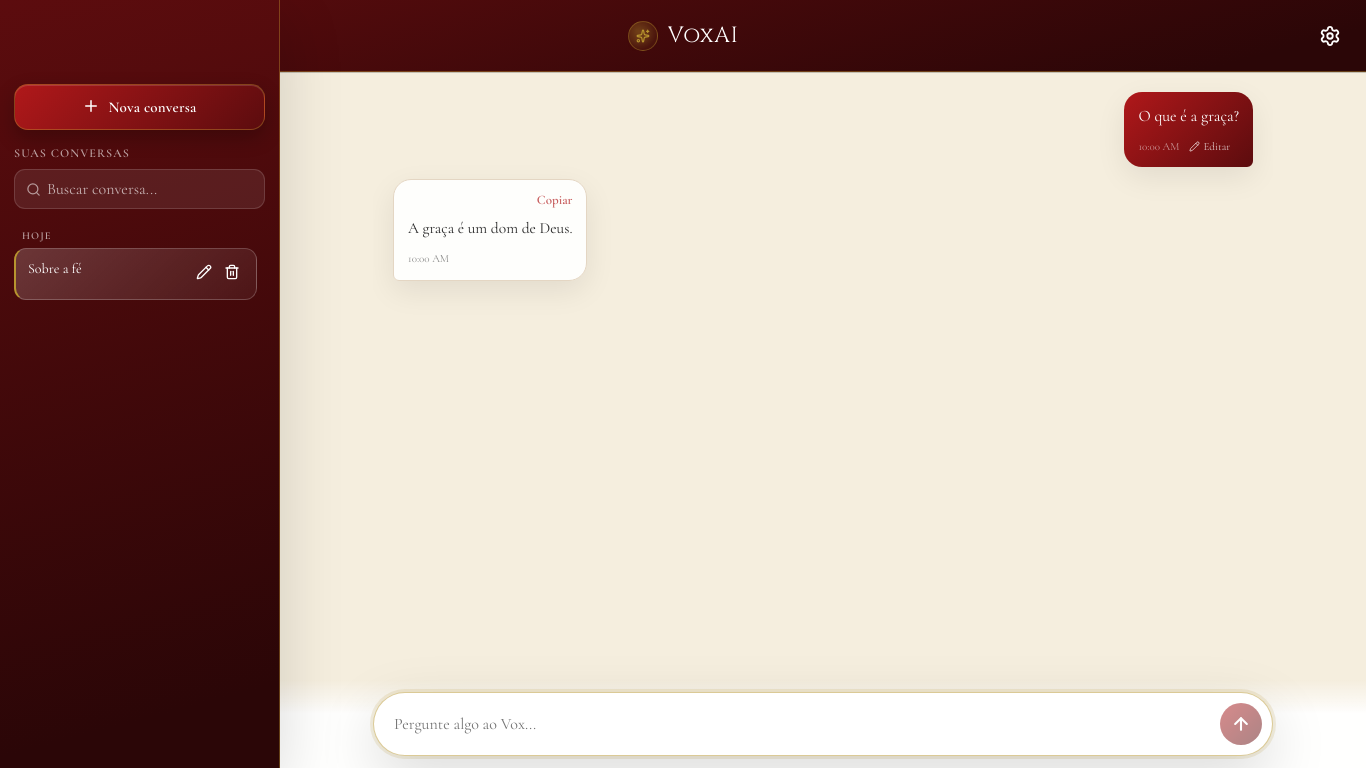
Test: Vox › surfaces the error copy when the stream reports a failure
Expected: the text "O que é a graça?" is shown, [1138, 104, 1239, 130]
Type "Mais uma" into the text box named "Digite sua pergunta para o Vox" at x=797, y=725, box [384, 705, 1210, 745]
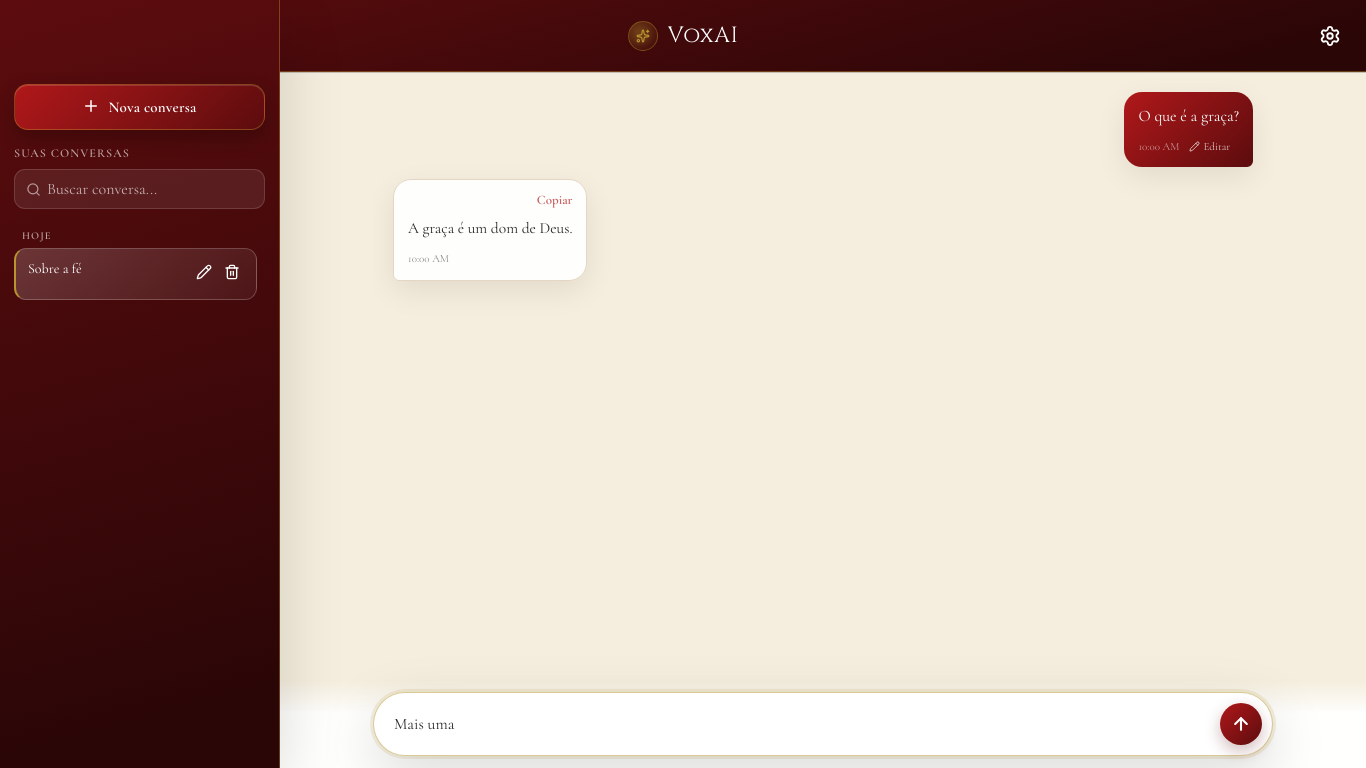
Click the button named "Enviar mensagem" at x=1241, y=724, box [1220, 703, 1262, 745]
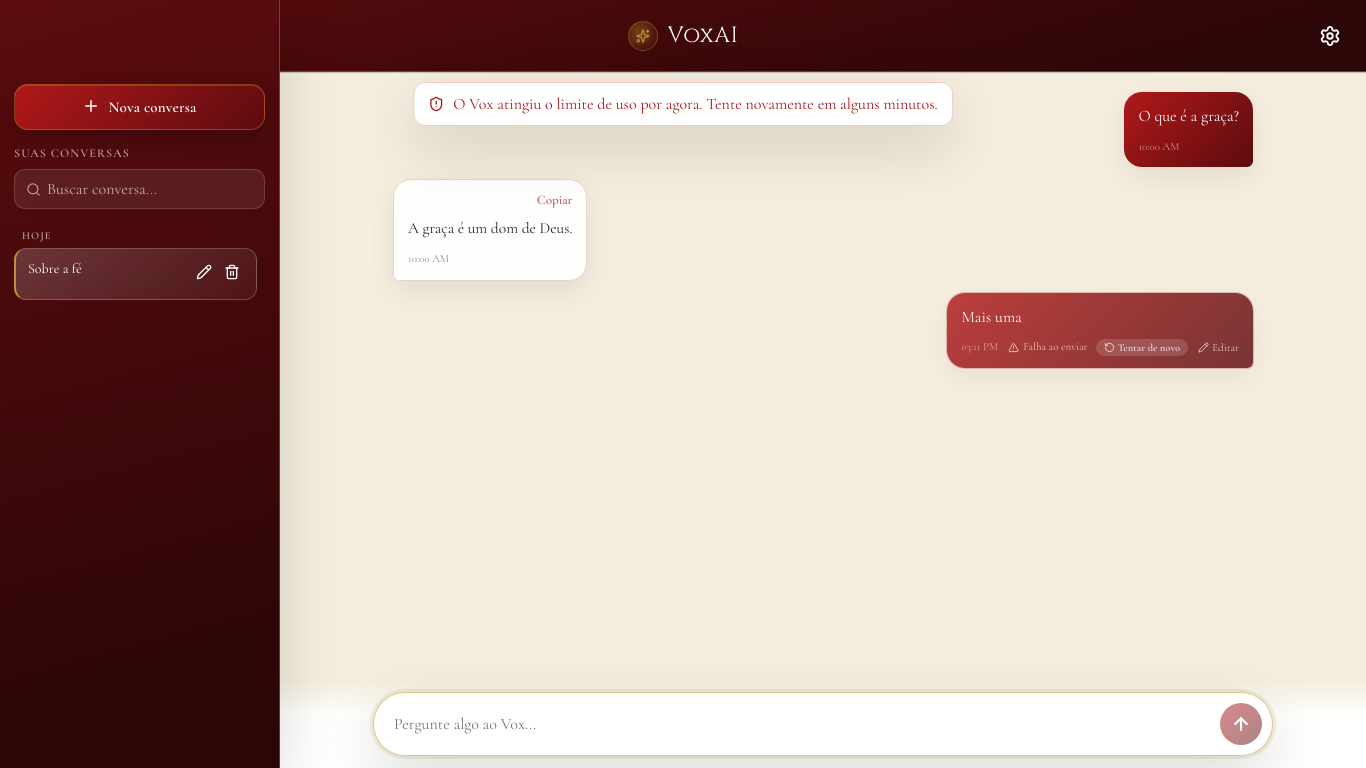
Now the message "O Vox atingiu o limite de uso por agora. Tente novamente em alguns minutos." is shown, box [413, 82, 953, 126]
